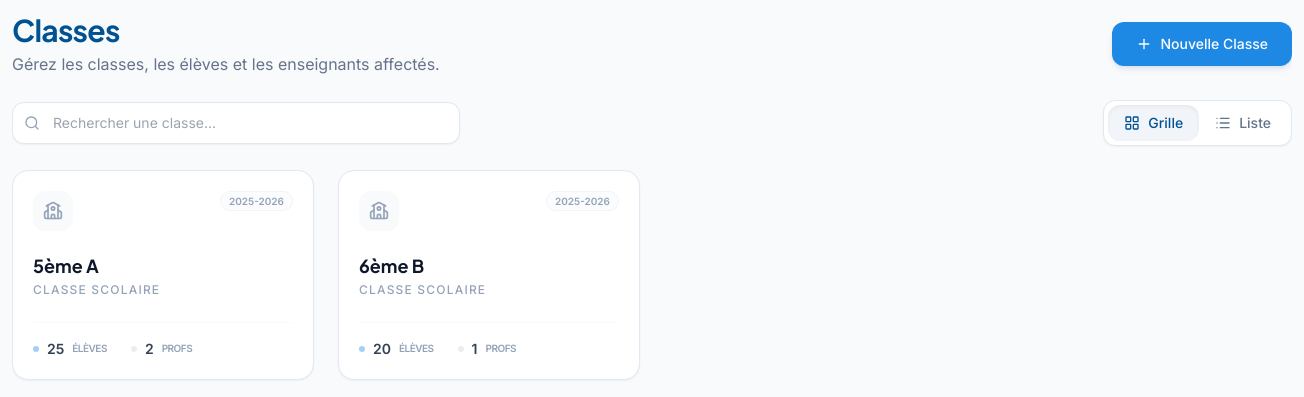
ClassListScreen › filters in list view
The image size is (1304, 397).
Expected: the heading "5ème A" is shown, 33,254 -> 99,277
Click the button "Liste" at (1243, 123), box 1199,105 -> 1287,141
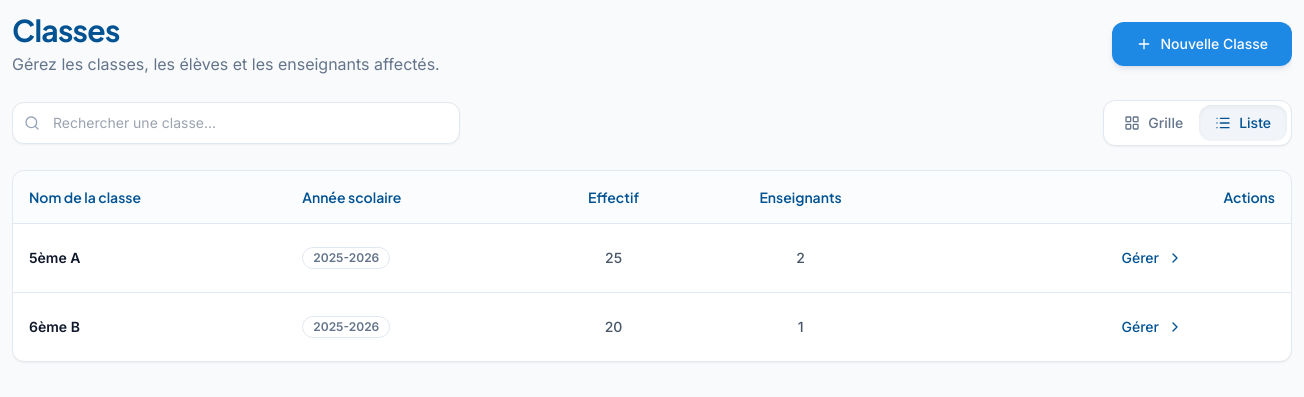
Type "6ème" into the field with placeholder "Rechercher une classe..." at (236, 123), box 12,102 -> 460,144
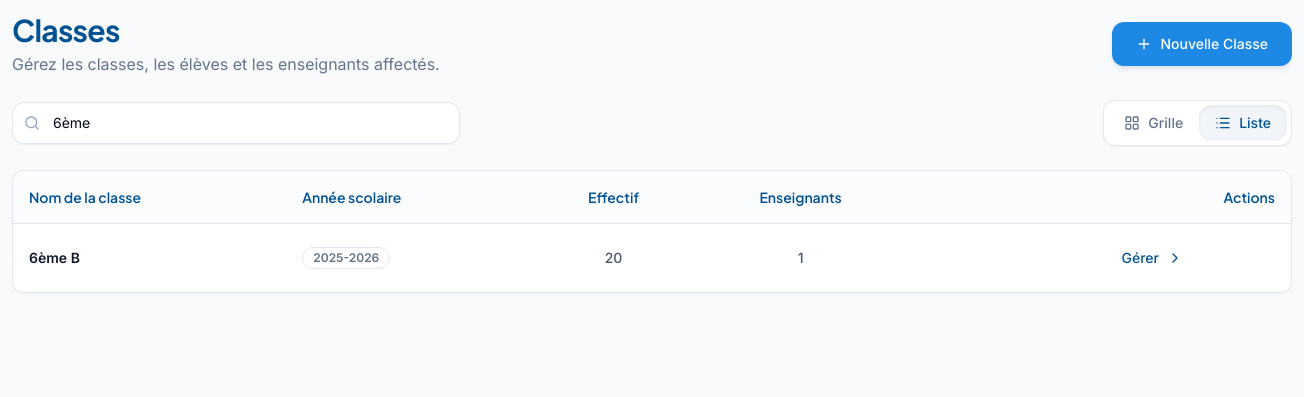
Expected: the text "6ème B" is shown, 13,224 -> 286,292
Now the text "5ème A" is gone
